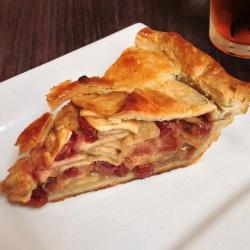apple_pie: (5, 28, 248, 217)
